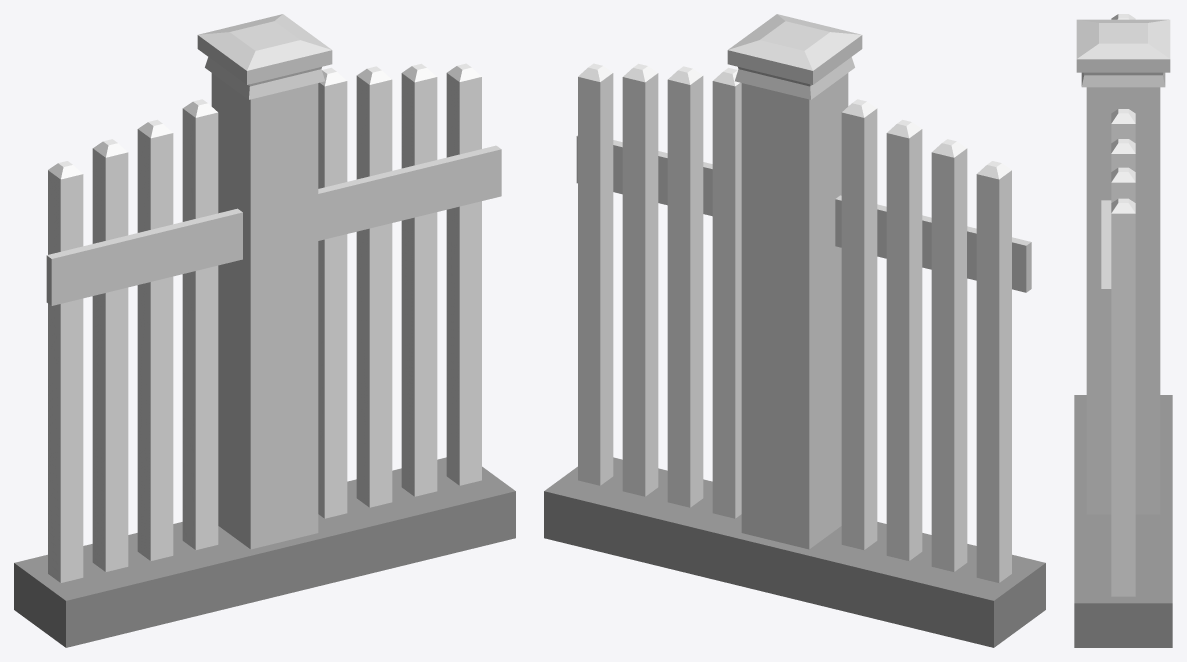
File: Fence_03.fbx
3 views of the same model, side by side, from view 1: azimuth 30°, elevation 25°; view 2: azimuth 150°, elevation 25°; view 3: azimuth 270°, elevation 25° (orthographic). The views are drawn at different scales.
Parts seen in each view (by area): view 1: Fence_03; view 2: Fence_03; view 3: Fence_03.
Part boxes in pixels (bbox=[...]): Fence_03: bbox=[14, 14, 515, 647]; Fence_03: bbox=[544, 14, 1045, 647]; Fence_03: bbox=[1074, 14, 1172, 647].
Size of the model in its own units: 200 by 229 by 40.
